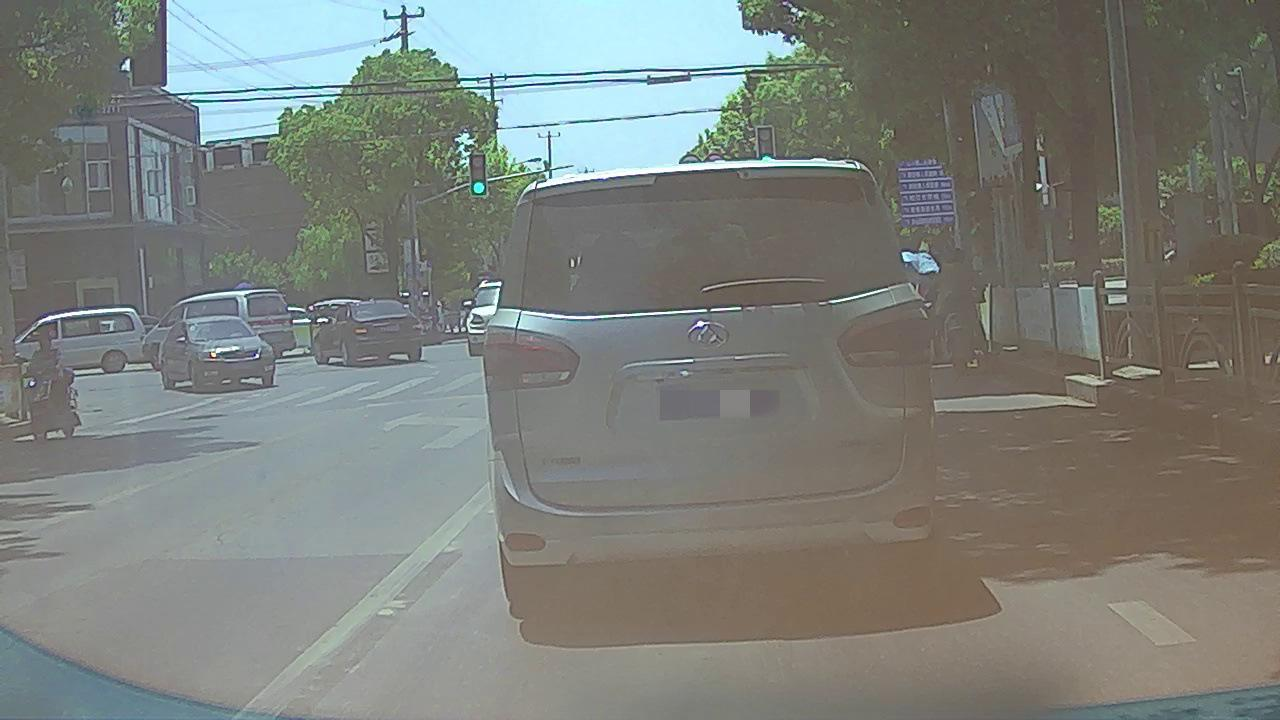traffic_light: (469, 155, 487, 195), (758, 128, 774, 160)
